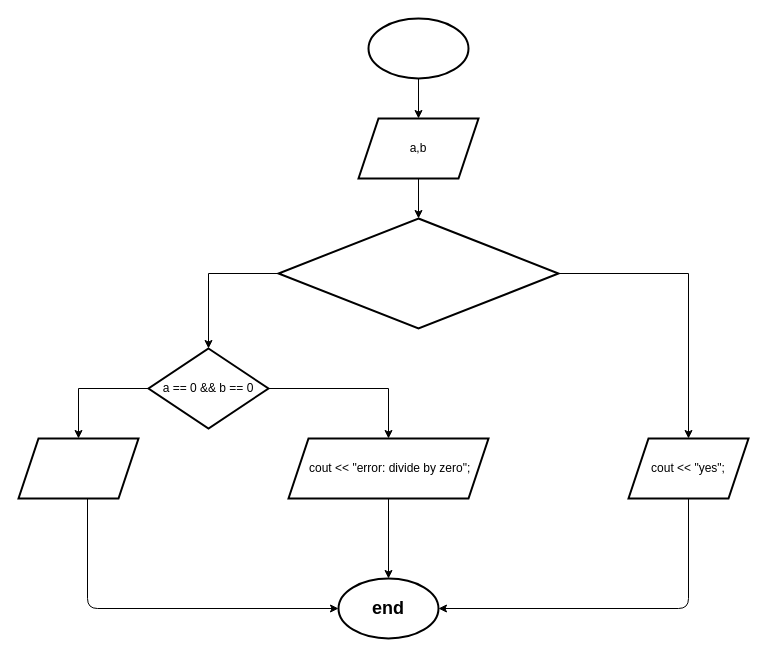
Image size: 766x656. Some labels were removed from this diagram. The box of each missing label's shape, as (x1, y1, x2, y2) in pixels:
(b != 0 && a % b == 0) || (a != 0 && b % a == 0): (277, 217, 559, 329)
cout << "no";: (17, 437, 139, 499)
start: (367, 17, 469, 79)
